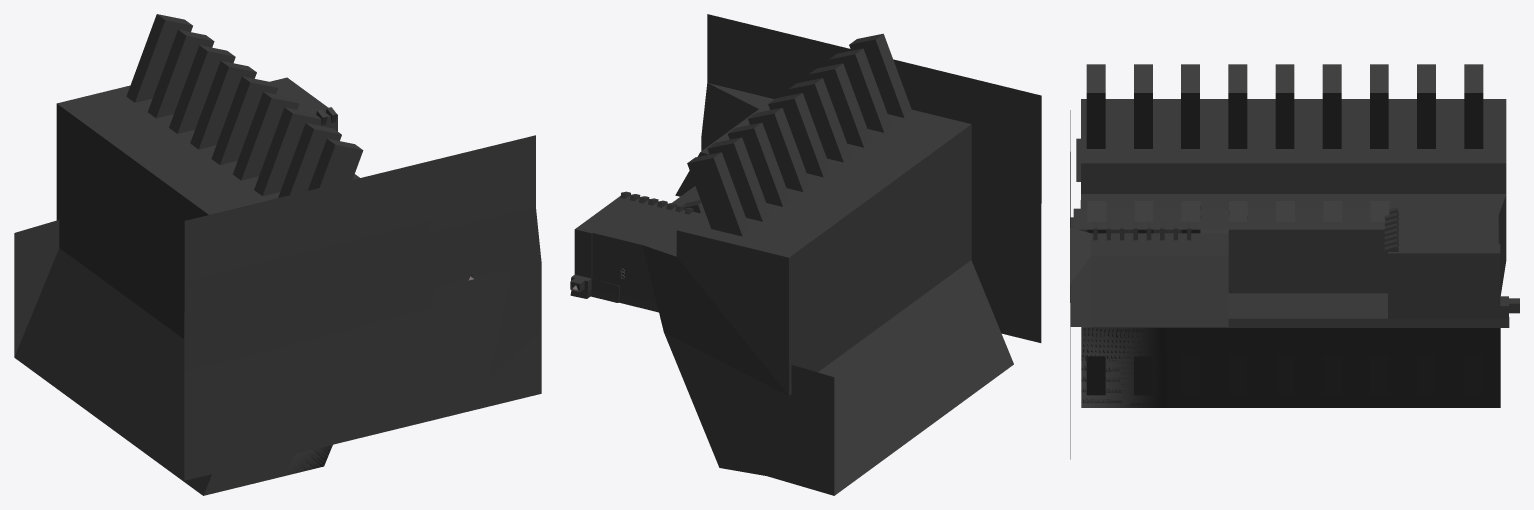
The model's file is StagePayloadFinal.fbx.
3 views of the same model, side by side, from view 1: azimuth 30°, elevation 25°; view 2: azimuth 150°, elevation 25°; view 3: azimuth 270°, elevation 25° (orthographic). The views are drawn at different scales.
Parts seen in each view (by area): view 1: Stage_Payload; view 2: Stage_Payload; view 3: Stage_Payload.
Boxes of the visible parts, x1,y1,x2,y2 form: Stage_Payload: [14, 14, 541, 495]; Stage_Payload: [570, 14, 1041, 495]; Stage_Payload: [1070, 64, 1519, 459].
Size of the model in its own units: 25837 by 21876 by 25400.
